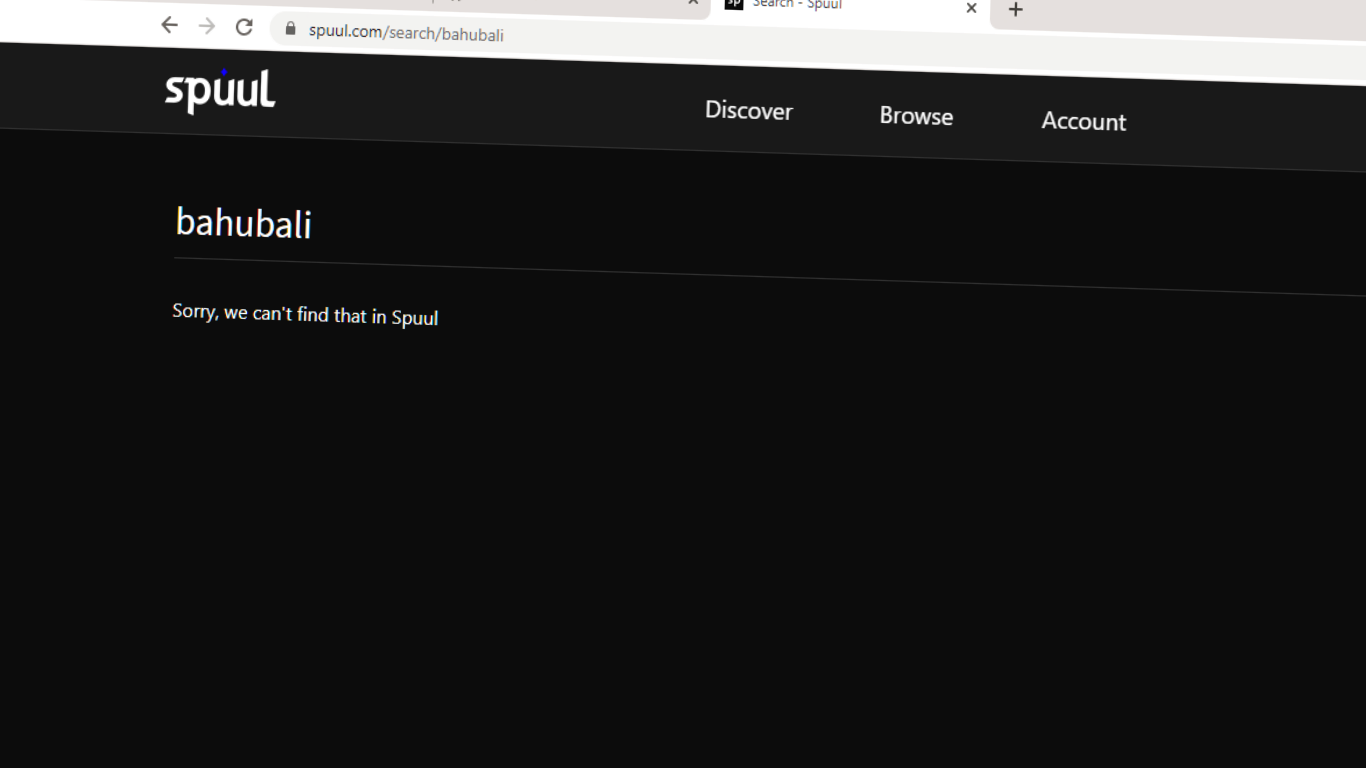myaccountbutton: (1027, 96, 1144, 138)
noresultsfound: (163, 289, 494, 340)
searchtextbox: (145, 175, 1278, 290)
